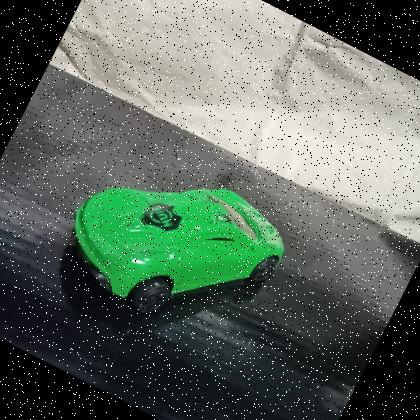Car: (42, 126, 308, 369)
